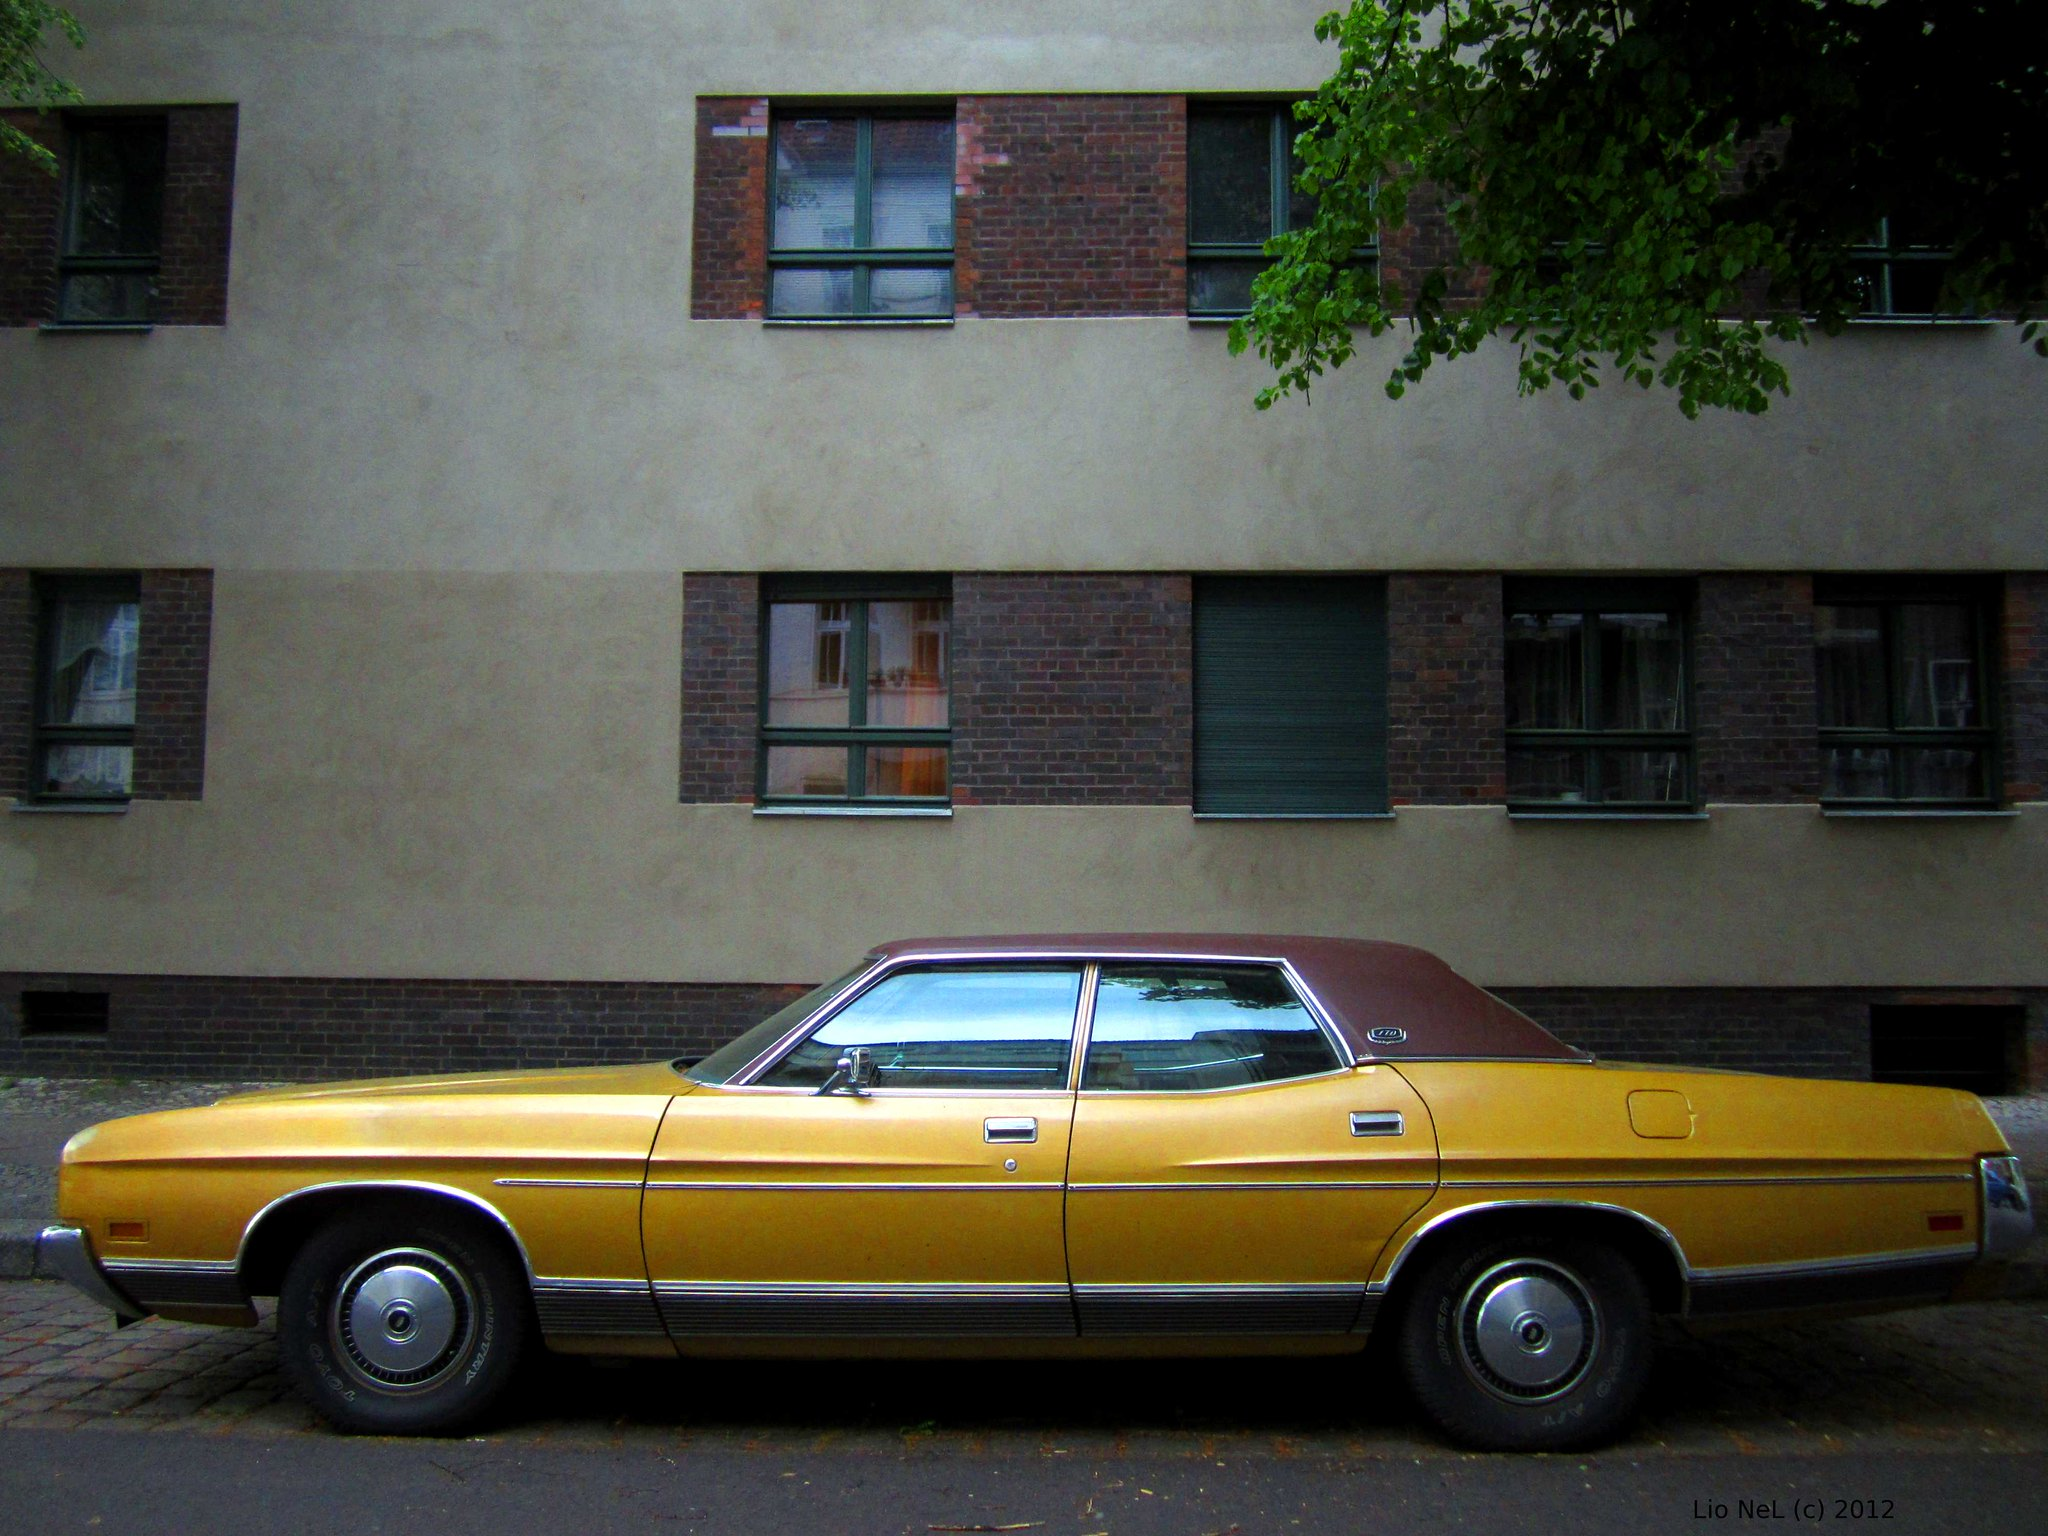car: (21, 899, 2033, 1465)
